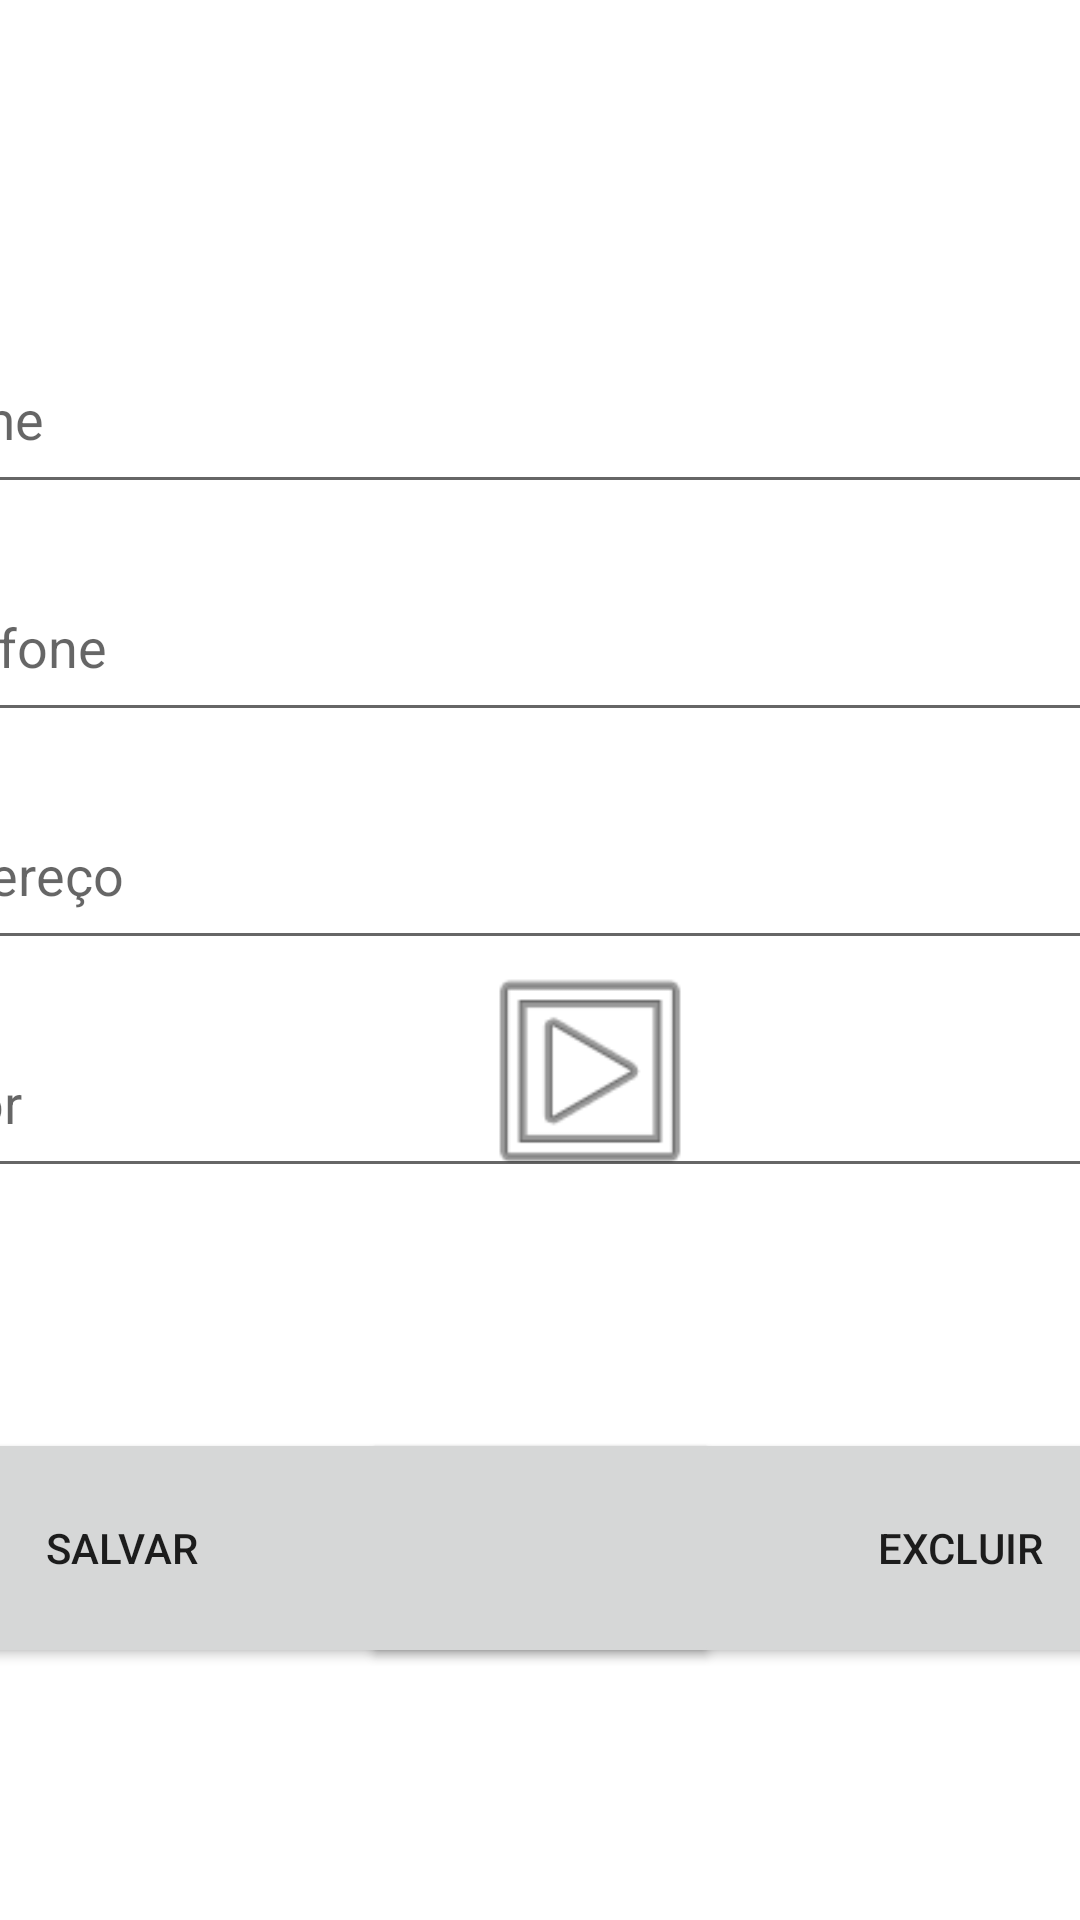

Named icons in this screenshot (1080px×1920px) and their bounding boxes, region(x1, y1, x2, y2):
slideshow: region(517, 999, 663, 1143)
